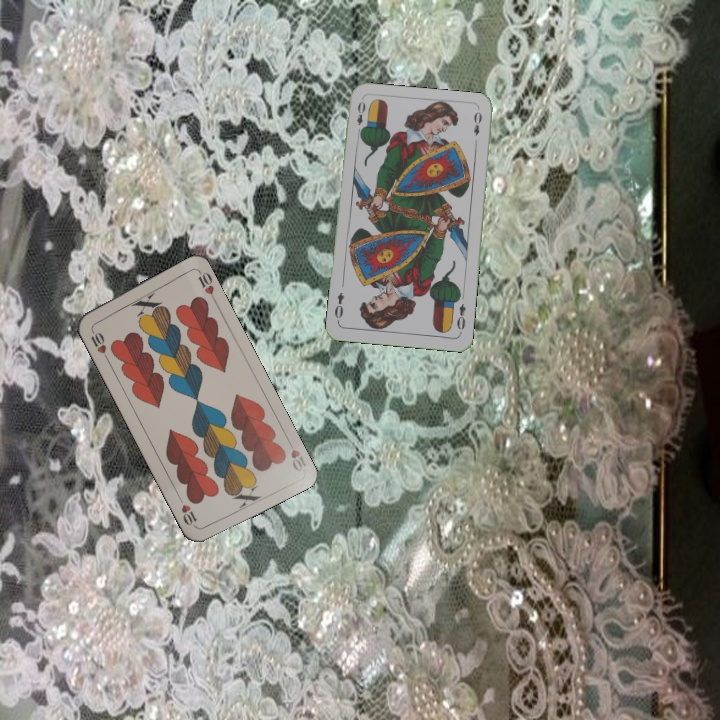EO: (352, 97, 368, 137), (453, 300, 468, 336)
H10: (283, 435, 309, 474), (86, 324, 111, 362)
